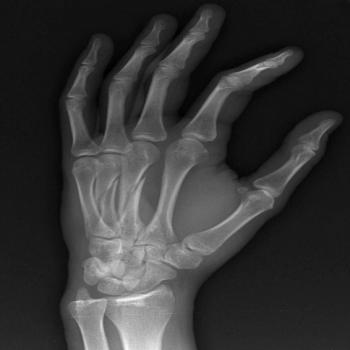Fracture: (116, 173, 147, 215), (95, 180, 117, 214)
